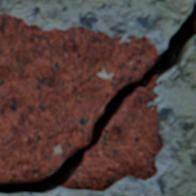brick: (193, 20, 195, 32)
broken_brick: (0, 15, 156, 183), (61, 75, 161, 191)
crack: (0, 1, 195, 194)
